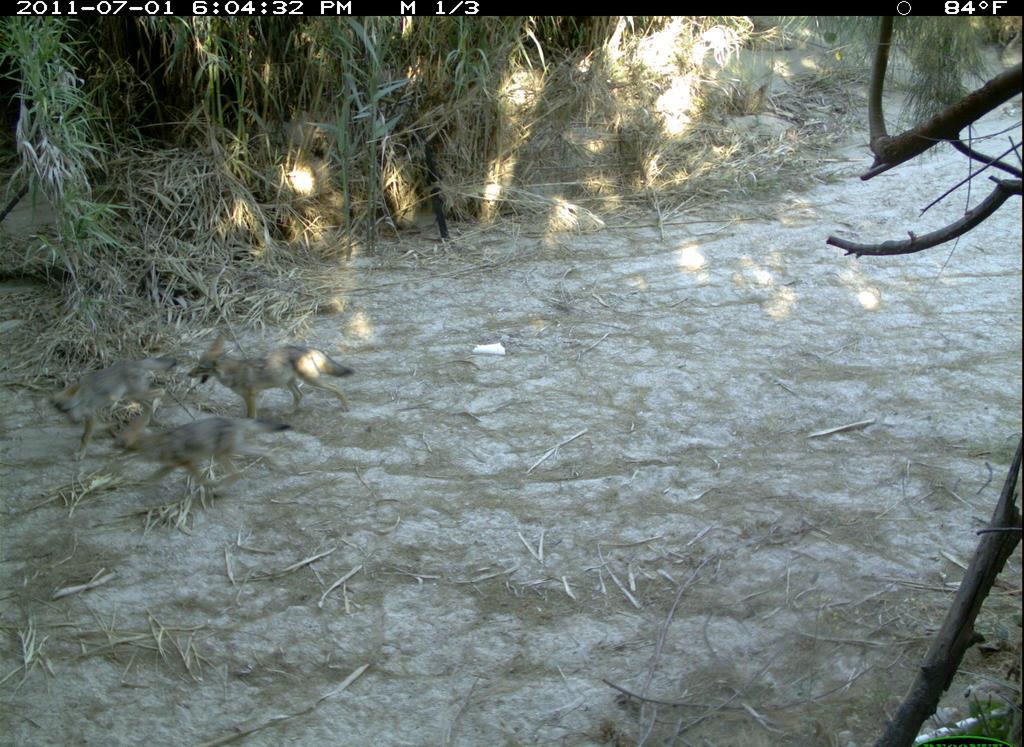coyote: (112, 415, 301, 502), (185, 331, 359, 424), (44, 351, 182, 463)
